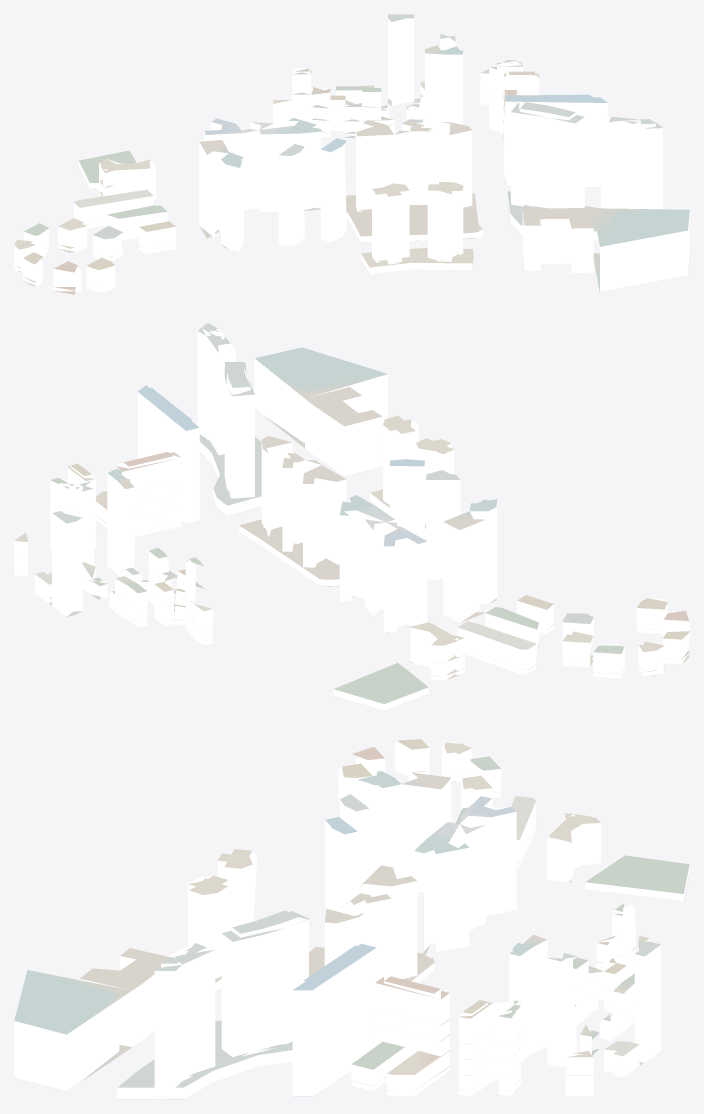
The model's file is buildings-10_3-coarse.glb.
The picture shows the model from 3 angles, top to bottom: view 1: azimuth 30°, elevation 25°; view 2: azimuth 150°, elevation 25°; view 3: azimuth 270°, elevation 25°; orthographic projection. The views are drawn at different scales.
Parts seen in each view (by area): view 1: block_10_3_office, block_10_3_roof, block_10_3_residential; view 2: block_10_3_office, block_10_3_residential, block_10_3_roof; view 3: block_10_3_office, block_10_3_residential, block_10_3_roof.
Part boxes in pixels (x1,y1,x2,y2): block_10_3_office: (199, 18, 689, 291); block_10_3_roof: (14, 14, 689, 294); block_10_3_residential: (14, 61, 598, 292); block_10_3_office: (52, 328, 497, 632); block_10_3_residential: (14, 441, 689, 710); block_10_3_roof: (14, 323, 689, 709); block_10_3_office: (14, 776, 661, 1096); block_10_3_residential: (117, 741, 689, 1099); block_10_3_roof: (14, 739, 689, 1099).
Size of the model in its own units: 360 by 68.41 by 312.
